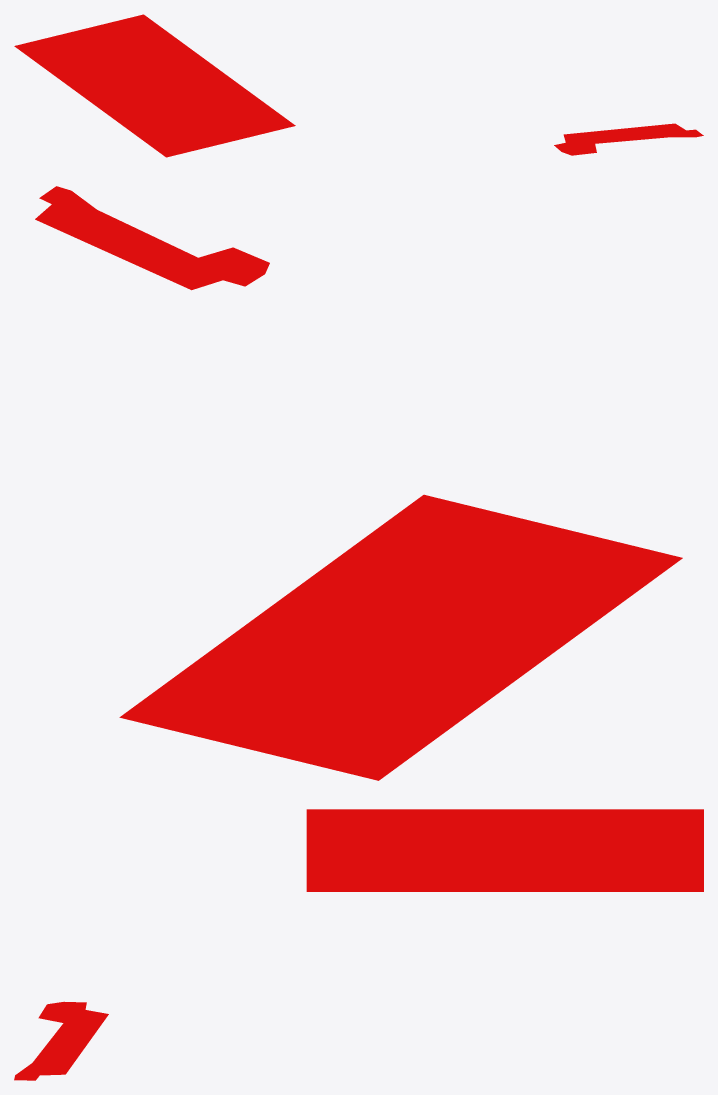
The model's file is ripple.glb.
3 views of the same model, one above another, from view 1: azimuth 30°, elevation 25°; view 2: azimuth 150°, elevation 25°; view 3: azimuth 270°, elevation 25° (orthographic). The views are drawn at different scales.
Visible parts, largest first — view 1: HLoad2, HLoad1; view 2: HLoad2, HLoad1; view 3: HLoad2, HLoad1.
Boxes of the visible parts, x1,y1,x2,y2 form: HLoad2: [14, 14, 295, 157]; HLoad1: [554, 123, 703, 155]; HLoad2: [119, 494, 682, 780]; HLoad1: [35, 186, 269, 290]; HLoad2: [306, 809, 703, 891]; HLoad1: [14, 1001, 108, 1080].
Size of the model in its own units: 2487 by 0.0586 by 2674.
